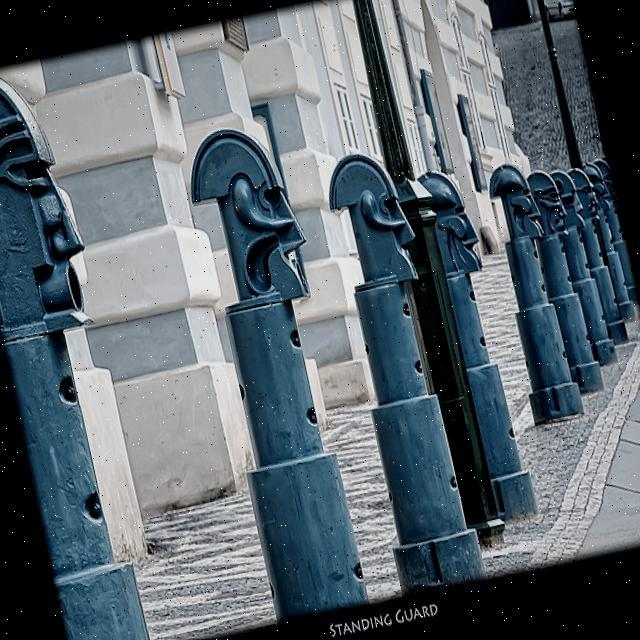fire_hydrant: (174, 115, 380, 622)
